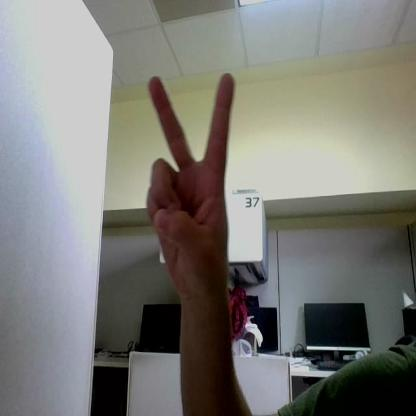V: (147, 72, 233, 284)
